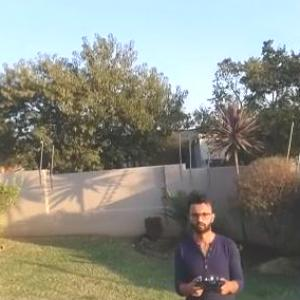follow: (169, 187, 245, 299)
